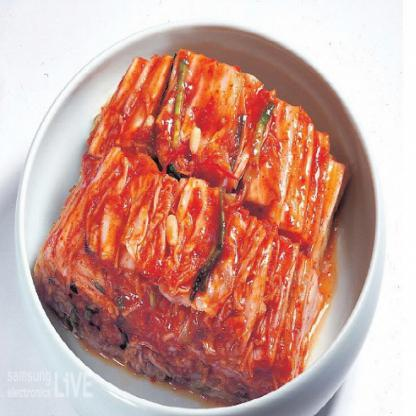kimchi: (52, 144, 310, 402), (89, 41, 342, 263)
